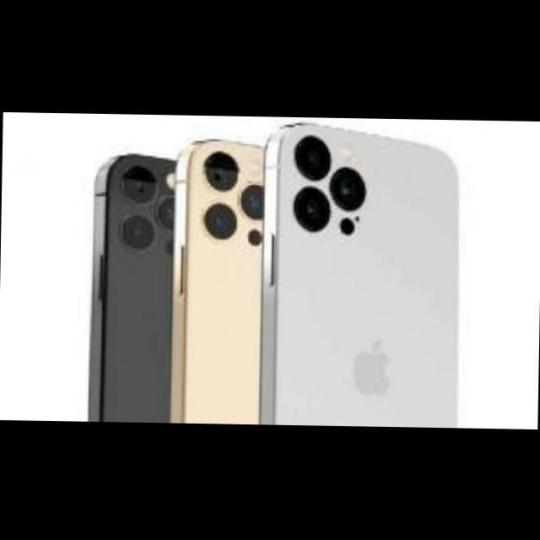phone: (266, 129, 457, 436), (82, 146, 172, 438), (176, 142, 260, 432)
